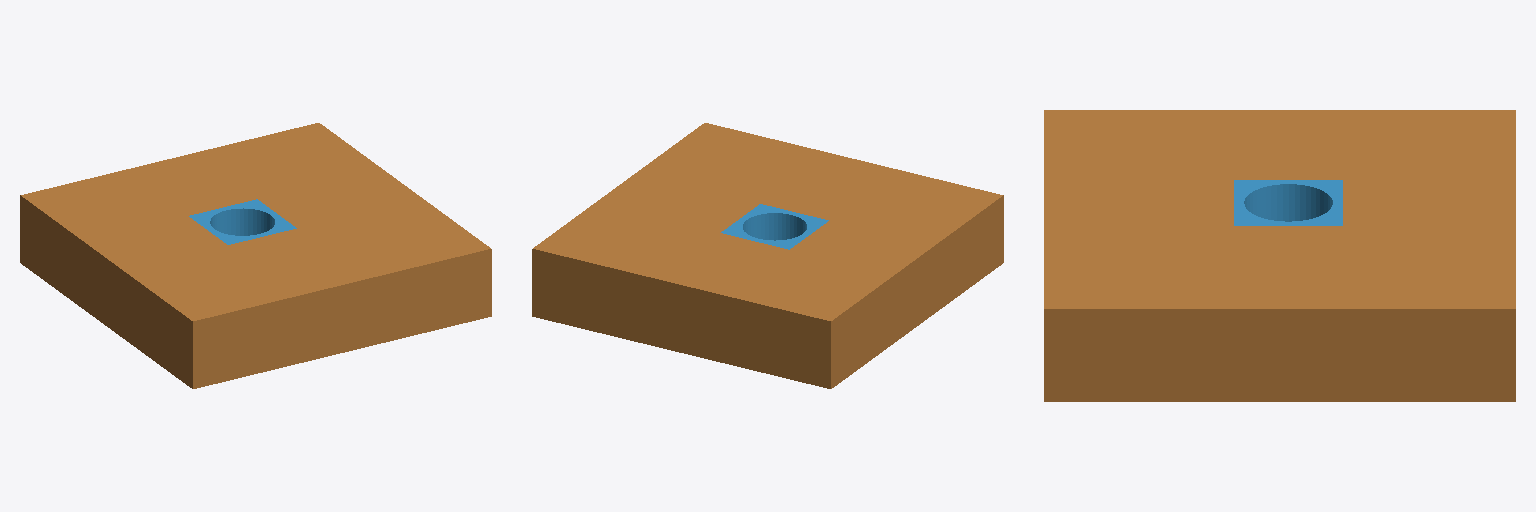
The robot description file, URDF, robot "fixture_peg_board_1_peg_50_sdf_hybrid":
<?xml version="1.0" encoding="utf-8"?>
<robot name="fixture_peg_board_1_peg_50_sdf_hybrid">
  <link name="plate">
    <visual>
      <origin xyz="0.000000 0.072908 0.025000" rpy="0.000000 0.000000 0.000000"/>
      <geometry>
        <box size="0.230000 0.084184 0.050000"/>
      </geometry>
      <material name="bulk"/>
    </visual>
    <collision>
      <origin xyz="0.000000 0.072908 0.025000" rpy="0.000000 0.000000 0.000000"/>
      <geometry>
        <box size="0.230000 0.084184 0.050000"/>
      </geometry>
    </collision>
    <visual>
      <origin xyz="0.000000 -0.068708 0.025000" rpy="0.000000 0.000000 0.000000"/>
      <geometry>
        <box size="0.230000 0.092584 0.050000"/>
      </geometry>
      <material name="bulk"/>
    </visual>
    <collision>
      <origin xyz="0.000000 -0.068708 0.025000" rpy="0.000000 0.000000 0.000000"/>
      <geometry>
        <box size="0.230000 0.092584 0.050000"/>
      </geometry>
    </collision>
    <visual>
      <origin xyz="-0.074698 0.004200 0.025000" rpy="0.000000 0.000000 0.000000"/>
      <geometry>
        <box size="0.080604 0.053231 0.050000"/>
      </geometry>
      <material name="bulk"/>
    </visual>
    <collision>
      <origin xyz="-0.074698 0.004200 0.025000" rpy="0.000000 0.000000 0.000000"/>
      <geometry>
        <box size="0.080604 0.053231 0.050000"/>
      </geometry>
    </collision>
    <visual>
      <origin xyz="0.066906 0.004200 0.025000" rpy="0.000000 0.000000 0.000000"/>
      <geometry>
        <box size="0.096188 0.053231 0.050000"/>
      </geometry>
      <material name="bulk"/>
    </visual>
    <collision>
      <origin xyz="0.066906 0.004200 0.025000" rpy="0.000000 0.000000 0.000000"/>
      <geometry>
        <box size="0.096188 0.053231 0.050000"/>
      </geometry>
    </collision>
    <visual>
      <origin xyz="0.000000 0.000000 0.000000" rpy="0.000000 0.000000 0.000000"/>
      <geometry>
        <mesh filename="../hole_patches/hole_3.obj" scale="1 1 1"/>
      </geometry>
      <material name="hole"/>
    </visual>
    <collision>
      <origin xyz="0.000000 0.000000 0.000000" rpy="0.000000 0.000000 0.000000"/>
      <geometry>
        <mesh filename="../hole_patches/hole_3.obj" scale="1 1 1"/>
      </geometry>
      <sdf resolution="256"/>
    </collision>
  </link>
  <material name="bulk">
    <color rgba="0.78 0.55 0.30 1.0"/>
  </material>
  <material name="hole">
    <color rgba="0.30 0.65 0.85 1.0"/>
  </material>
</robot>

--- What the picture shows (computed from the rendered views, not written in the file) ---
Views: 3 orthographic renders of the robot side by side, from view 1: azimuth 30°, elevation 25°; view 2: azimuth 150°, elevation 25°; view 3: azimuth 270°, elevation 25°.
Model fixture_peg_board_1_peg_50_sdf_hybrid with 1 links and 0 joints (none), rooted at plate, posed every joint at zero.
Links seen in each view (by area): view 1: plate; view 2: plate; view 3: plate.
Link boxes in pixels (x1=…): plate: x1=20, y1=123, x2=491, y2=388; plate: x1=532, y1=123, x2=1003, y2=388; plate: x1=1044, y1=110, x2=1515, y2=401.
Size in the robot's own frame: 0.23 by 0.23 by 0.05 metres.
Meshes: 1 distinct files referenced, 1 mesh visuals loaded (1 OBJ).
